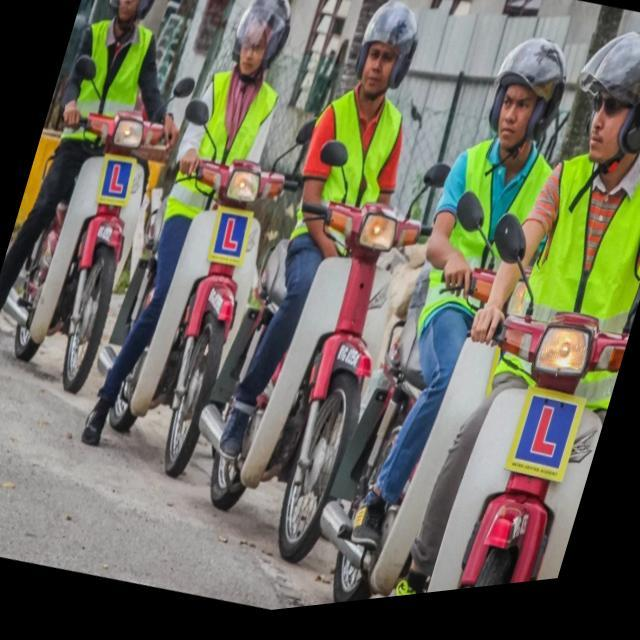Helmet: (479, 29, 571, 157), (352, 0, 421, 94), (228, 0, 294, 80)
